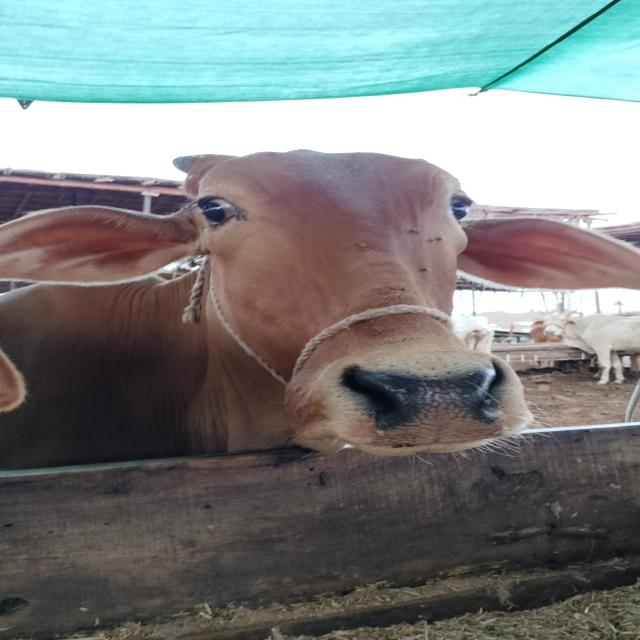muzzles: (329, 349, 542, 450)
